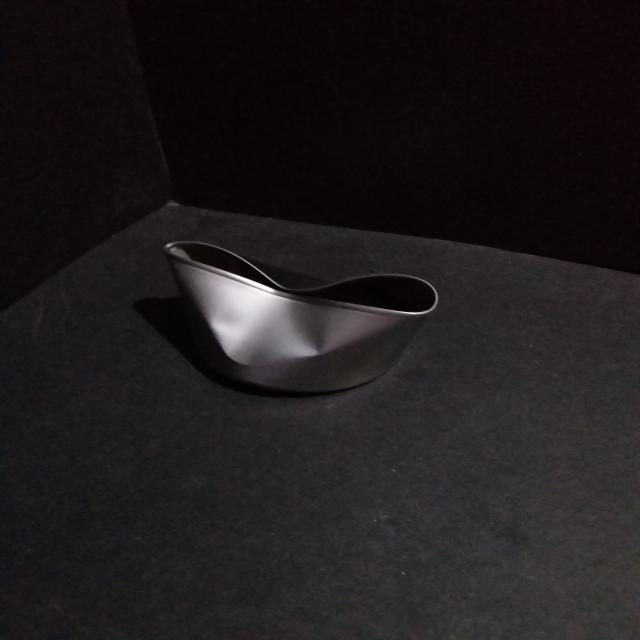Can: (163, 236, 437, 402)
